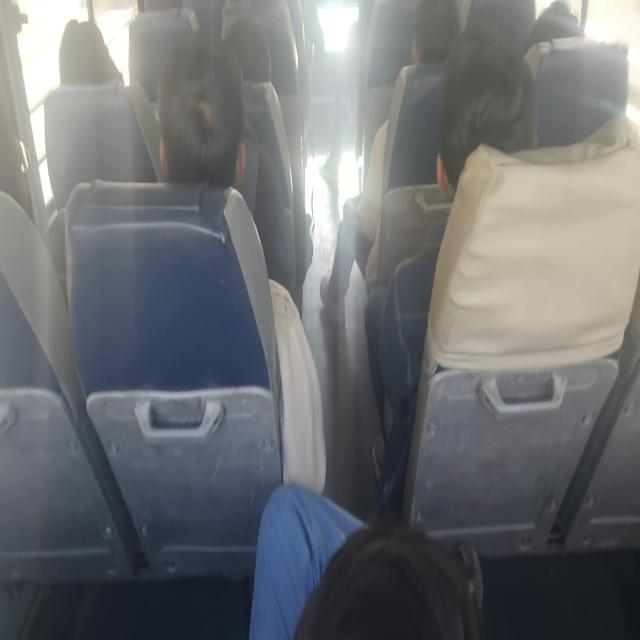person: (294, 494, 468, 640), (440, 43, 534, 212), (156, 43, 247, 196), (54, 10, 123, 87), (398, 0, 459, 75), (522, 0, 597, 58), (222, 16, 276, 93), (0, 102, 36, 214)
